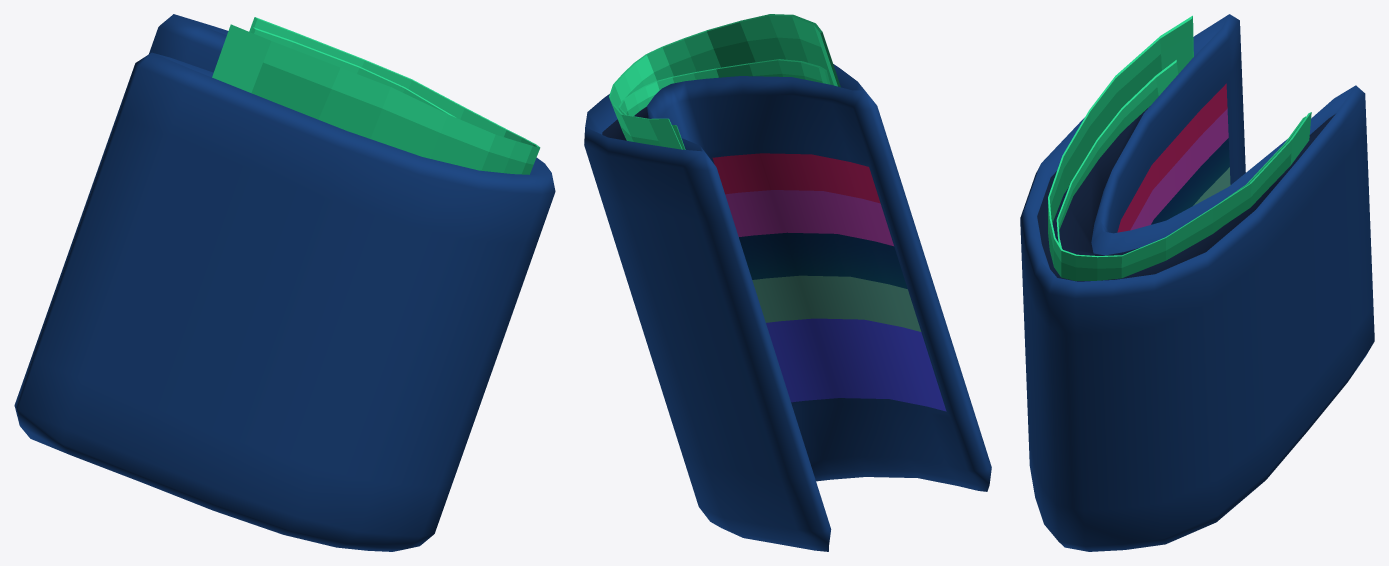
The model's file is Wallet.fbx.
The picture shows the model from 3 angles, left to right: view 1: azimuth 30°, elevation 25°; view 2: azimuth 150°, elevation 25°; view 3: azimuth 270°, elevation 25°; orthographic projection. The views are drawn at different scales.
Visible parts, largest first — view 1: Wallet; view 2: Wallet; view 3: Wallet.
Part boxes in pixels (x1,y1,x2,y2): Wallet: (14, 14, 555, 551); Wallet: (584, 14, 991, 551); Wallet: (1020, 14, 1374, 551).
Bounding box in the file's own units: 70.43 × 76.98 × 51.44.
